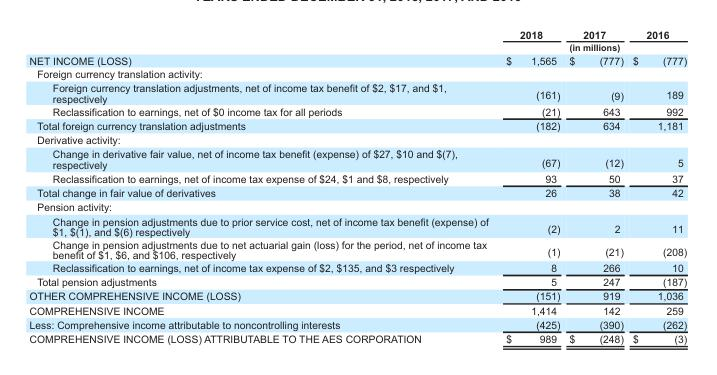table: (28, 29, 686, 344)
table column: (28, 29, 496, 344), (496, 29, 564, 344), (564, 29, 627, 344), (627, 29, 686, 344)
table column header: (28, 29, 686, 53)
table projected row header: (28, 132, 686, 146), (28, 199, 686, 213), (28, 67, 686, 80)
table row: (28, 146, 686, 171), (28, 80, 686, 104), (28, 213, 686, 237), (28, 237, 686, 260), (28, 302, 686, 317), (28, 53, 686, 67), (28, 104, 686, 118), (28, 118, 686, 132), (28, 132, 686, 146), (28, 171, 686, 185), (28, 185, 686, 199), (28, 199, 686, 213), (28, 260, 686, 274), (28, 274, 686, 288), (28, 288, 686, 302), (28, 317, 686, 331), (28, 67, 686, 80), (28, 331, 686, 344), (28, 29, 686, 41), (28, 41, 686, 53)
table spanning cell: (496, 41, 686, 53)
